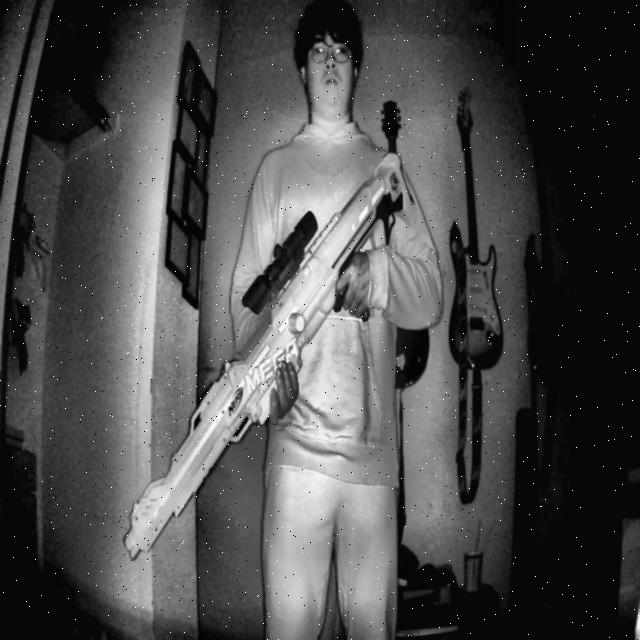Nerf_Blaster: (105, 149, 469, 591)
